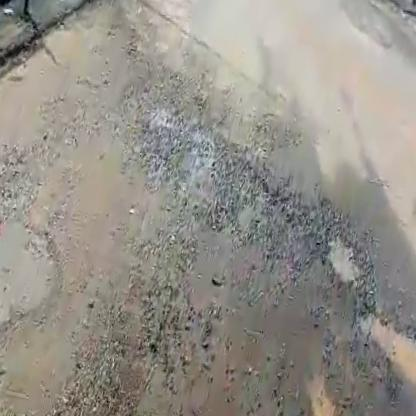pothole: (320, 228, 369, 286)
